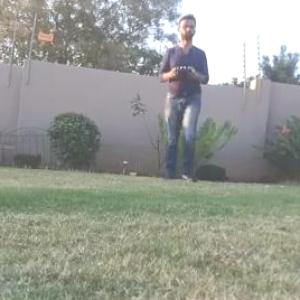follow: (153, 7, 214, 189)
